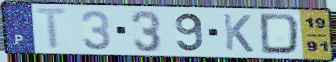3: (130, 8, 163, 54), (81, 9, 113, 51)
9: (174, 12, 205, 52)
D: (258, 12, 302, 56)
K: (221, 12, 256, 54)
T: (33, 6, 73, 51)
